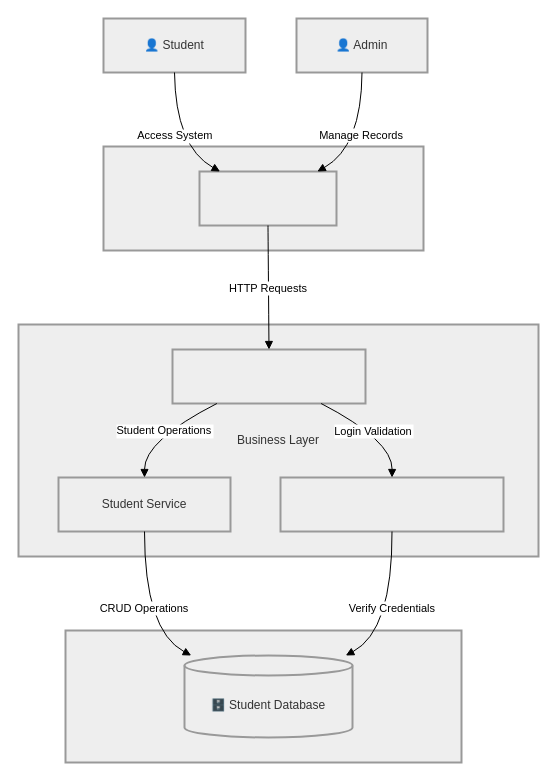
The diagram is 556 pixels wide and 780 high, and some of its shapes have lost their labels. Here are the shapes that lost their labels. From the top down, the centre of each, then its label:
At (267,198): "🖥️ Web UI".
At (268,376): "Student Controller".
At (391,504): "Authentication Service".
